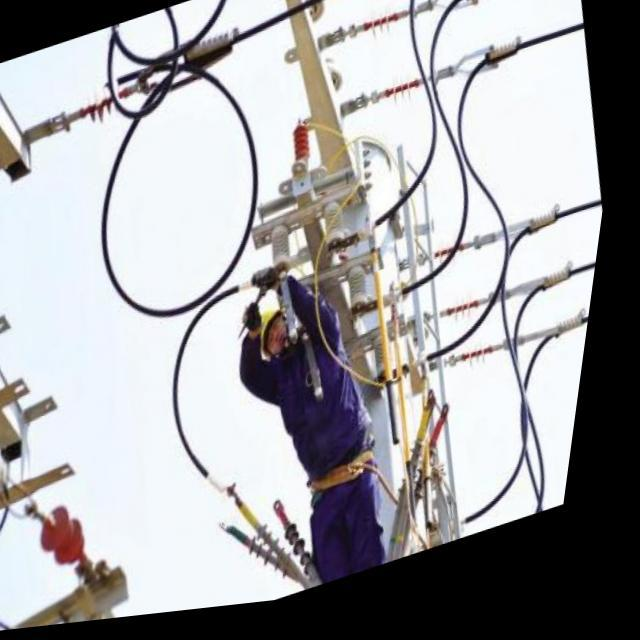belt: (290, 418, 472, 560)
